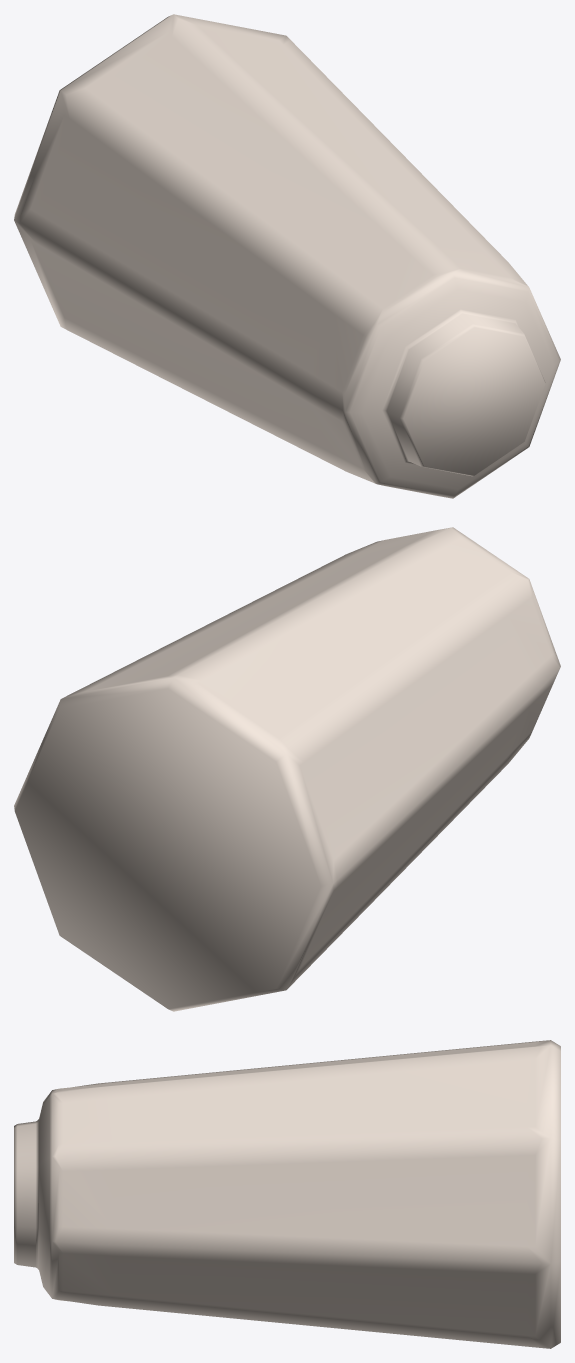
File: MeshCylinder_000_0_GeomSubset_1.obj
The picture shows the model from 3 angles, top to bottom: view 1: azimuth 30°, elevation 25°; view 2: azimuth 150°, elevation 25°; view 3: azimuth 270°, elevation 25°; orthographic projection. The views are drawn at different scales.
Parts seen in each view (by area): view 1: MeshCylinder_000_0_GeomSubset_1; view 2: MeshCylinder_000_0_GeomSubset_1; view 3: MeshCylinder_000_0_GeomSubset_1.
Boxes of the visible parts, bbox=[...] form: MeshCylinder_000_0_GeomSubset_1: bbox=[14, 14, 560, 498]; MeshCylinder_000_0_GeomSubset_1: bbox=[14, 527, 560, 1011]; MeshCylinder_000_0_GeomSubset_1: bbox=[14, 1040, 560, 1348].
Bounding box in the file's own units: 0.0543 × 0.0543 × 0.0903.
